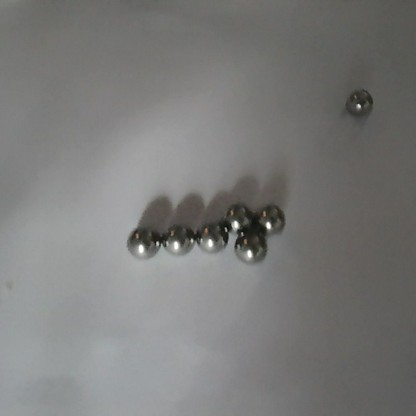ironball: (124, 224, 164, 263), (159, 220, 198, 259), (234, 231, 267, 268), (223, 199, 256, 235), (344, 85, 374, 120), (254, 202, 286, 233), (197, 219, 227, 251)
